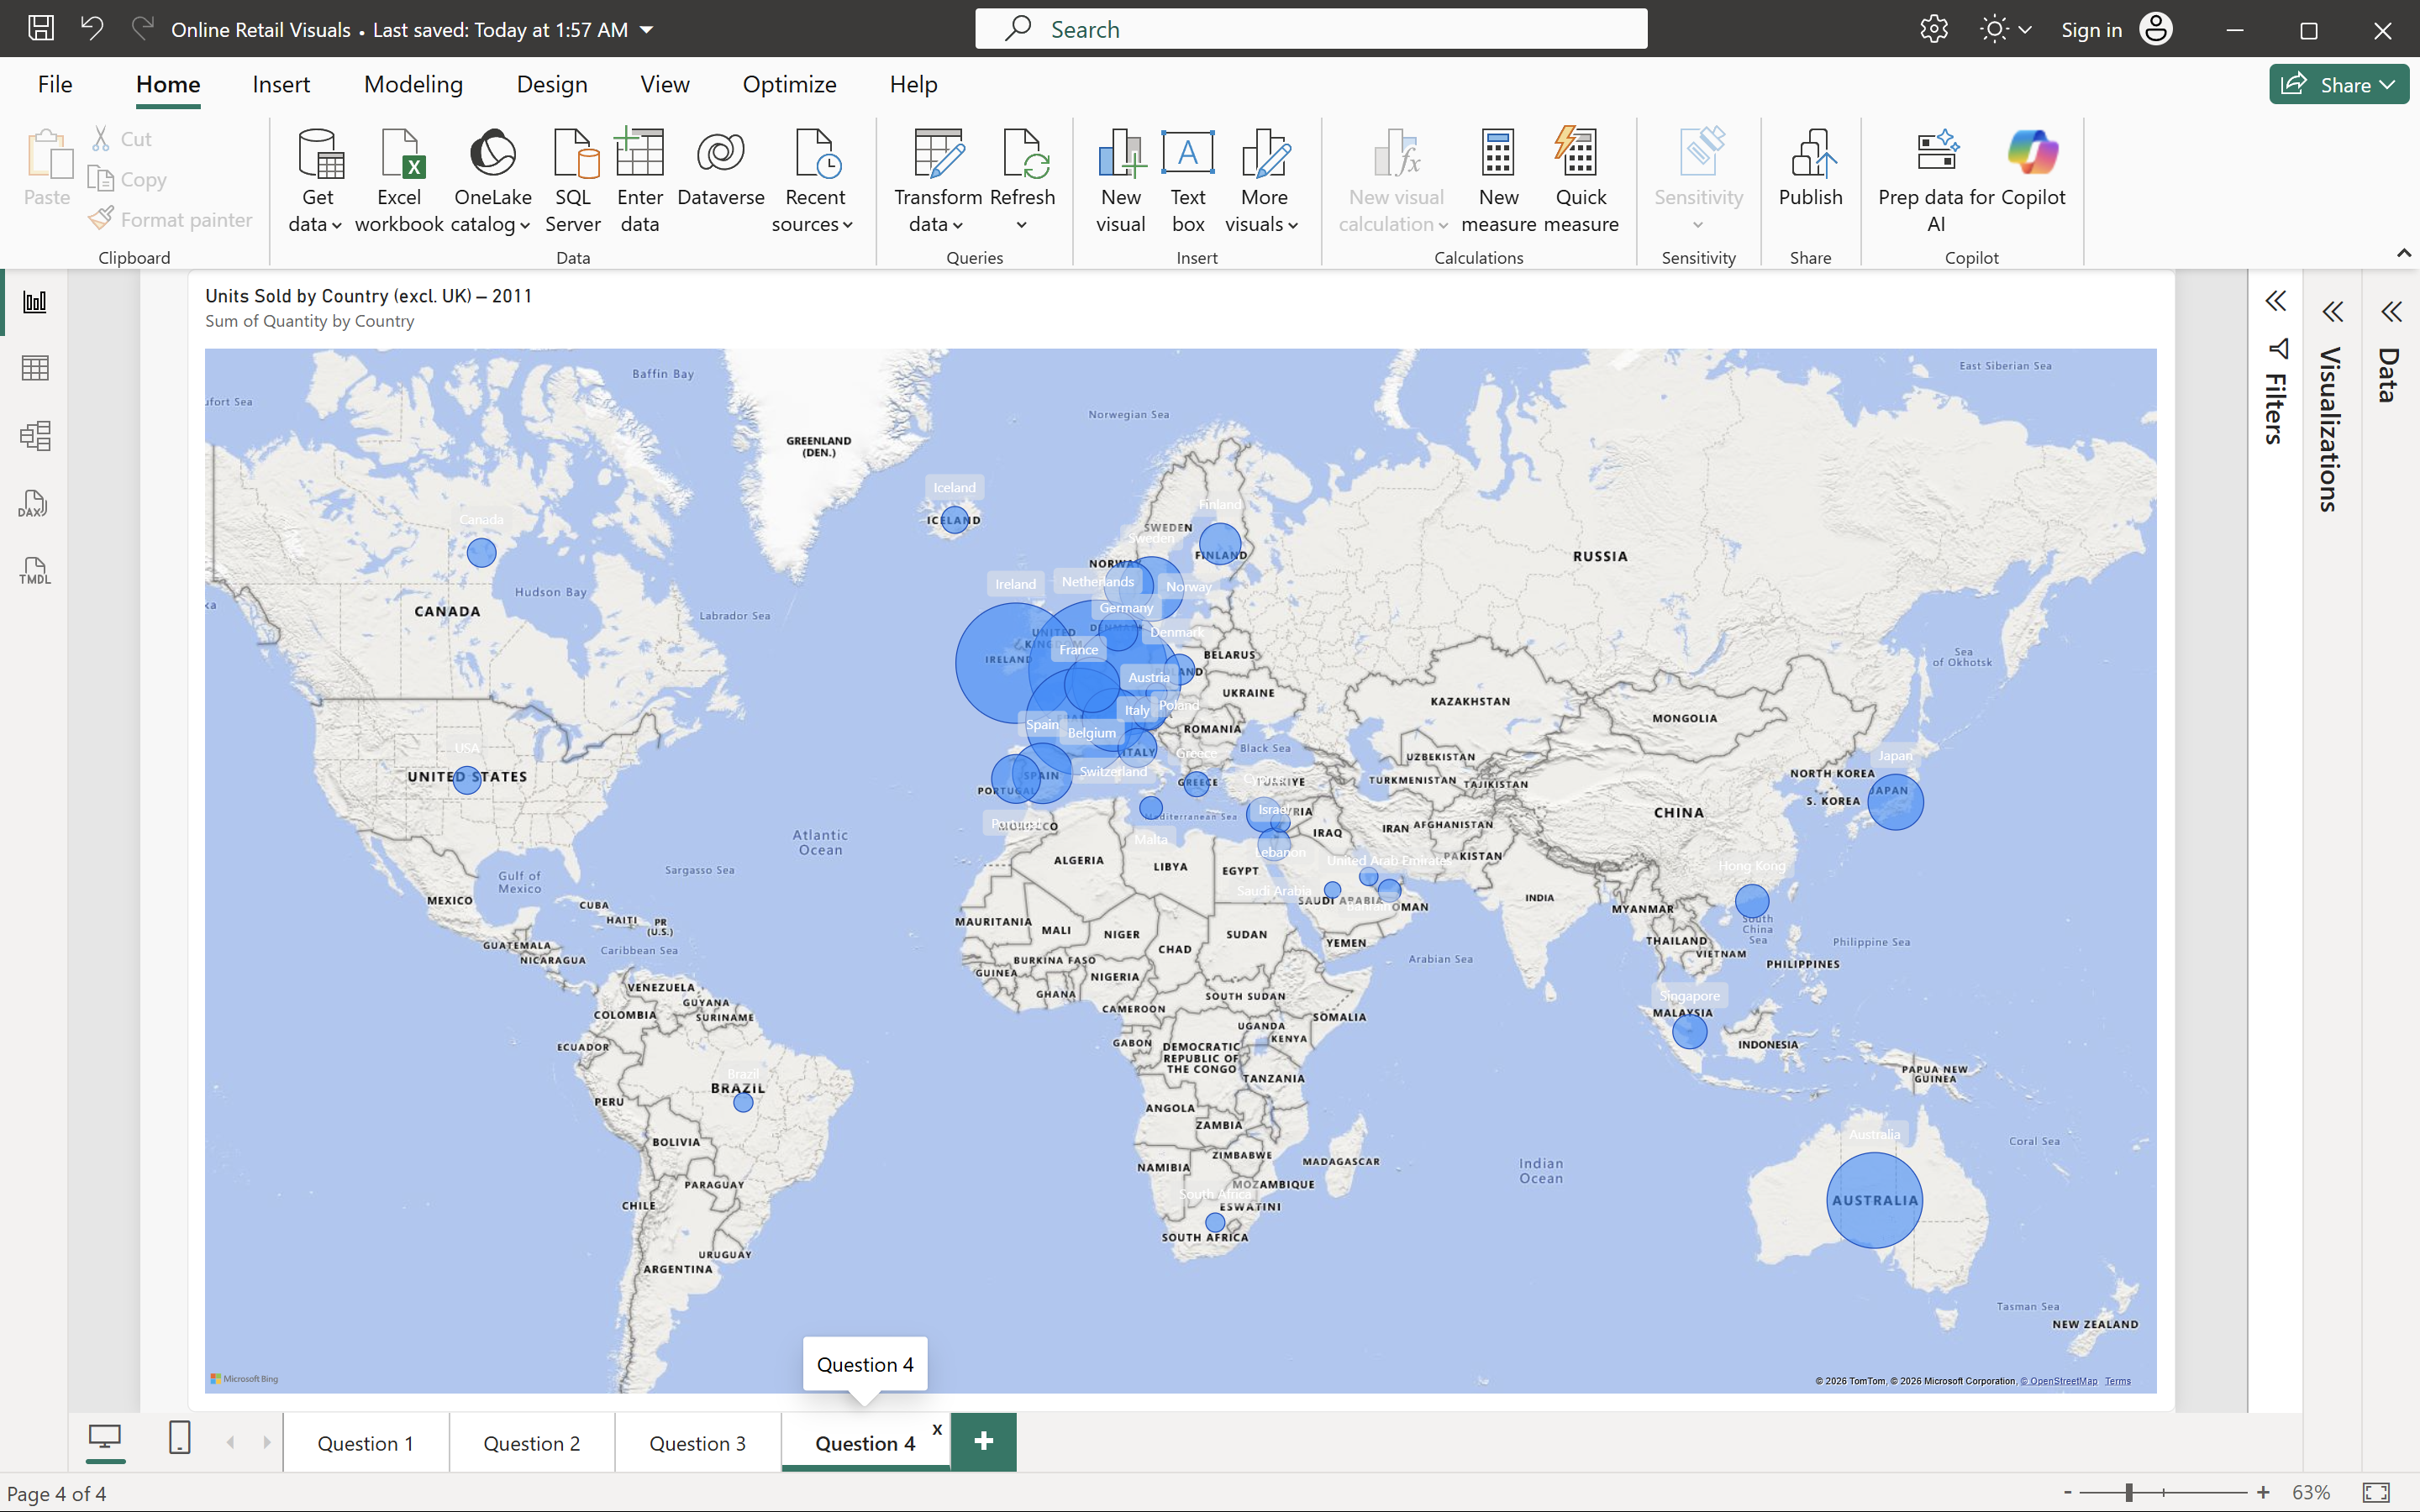

Layout of this report page (visuals, bound fields, positions):
{"tool":"powerbi","page":{"name":"Question 4","canvas":[1920,1080],"ordinal":3},"visuals":[{"type":"map","title":"Units Sold by Country (excl. UK) – 2011","fields":{"Category":["Online Retail.Country"],"Size":["Sum(Online Retail.Quantity)"]},"box":[43.6,0,1876.4,1079.4],"z":0}]}

Visuals, with their boxes on the page's 1920x1080 design canvas (x1, y1, x2, y2). These are canvas units, not pixel positions in the 2420x1512 screenshot, which may show the page scaled, cropped or inside an application window:
"Units Sold by Country (excl. UK) – 2011" map: bbox=(44, 0, 1920, 1079)
